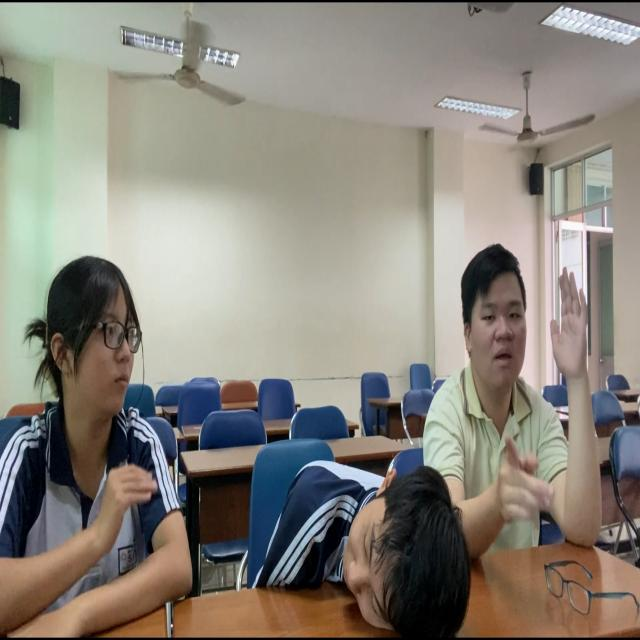raise_hand: (439, 238, 618, 593)
sleep: (242, 455, 482, 640)
